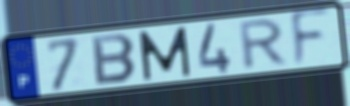4: (197, 21, 233, 75)
7: (46, 35, 81, 92)
B: (90, 32, 139, 87)
F: (288, 6, 333, 72)
M: (136, 25, 193, 83)
R: (238, 17, 291, 72)
